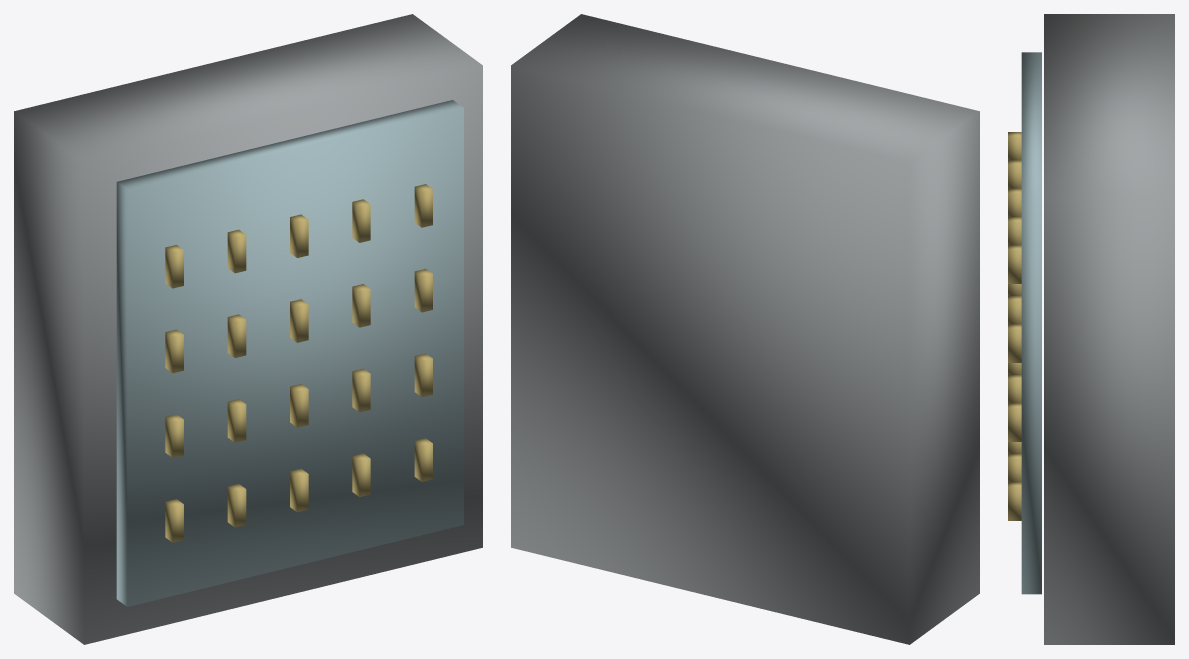
File: wall_key_cabinet__deep.glb
3 views of the same model, side by side, from view 1: azimuth 30°, elevation 25°; view 2: azimuth 150°, elevation 25°; view 3: azimuth 270°, elevation 25° (orthographic). The views are drawn at different scales.
Visible parts, largest first — view 1: world; view 2: world; view 3: world.
Part boxes in pixels (left/top/right/bottom): world: left=14, top=14, right=482, bottom=644; world: left=511, top=14, right=979, bottom=644; world: left=1008, top=14, right=1174, bottom=644.
Size of the model in its own units: 0.64 by 0.74 by 0.2489.
